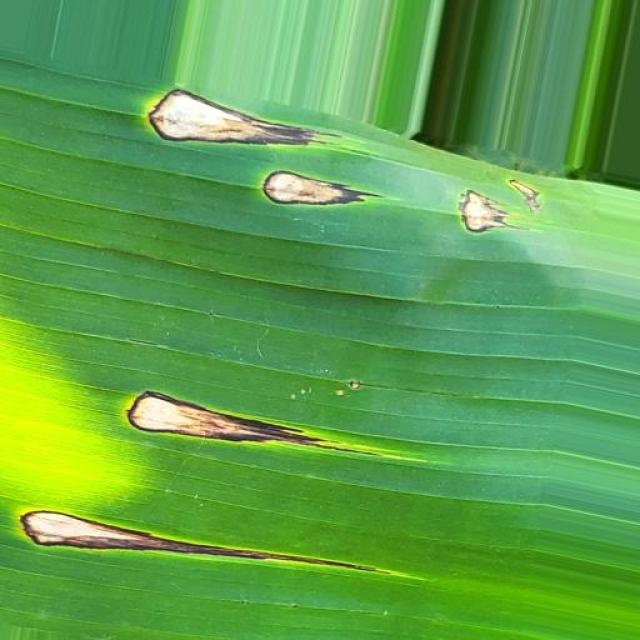Early_rust: (95, 39, 560, 266), (0, 373, 459, 598)
